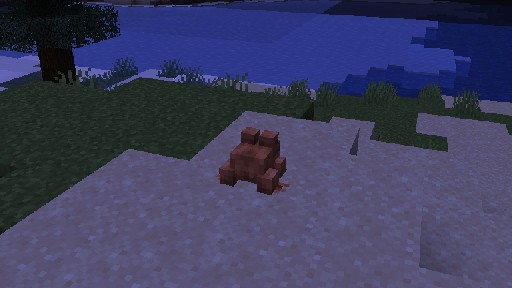frog: (215, 125, 289, 195)
